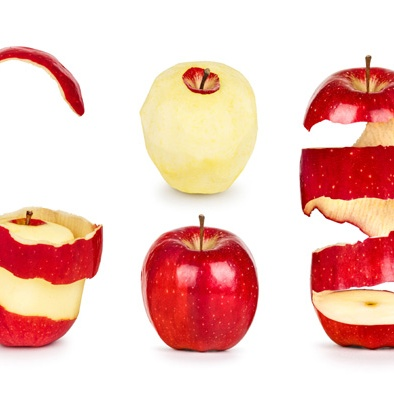apple: (135, 59, 261, 192), (140, 222, 263, 356), (0, 213, 91, 344)
